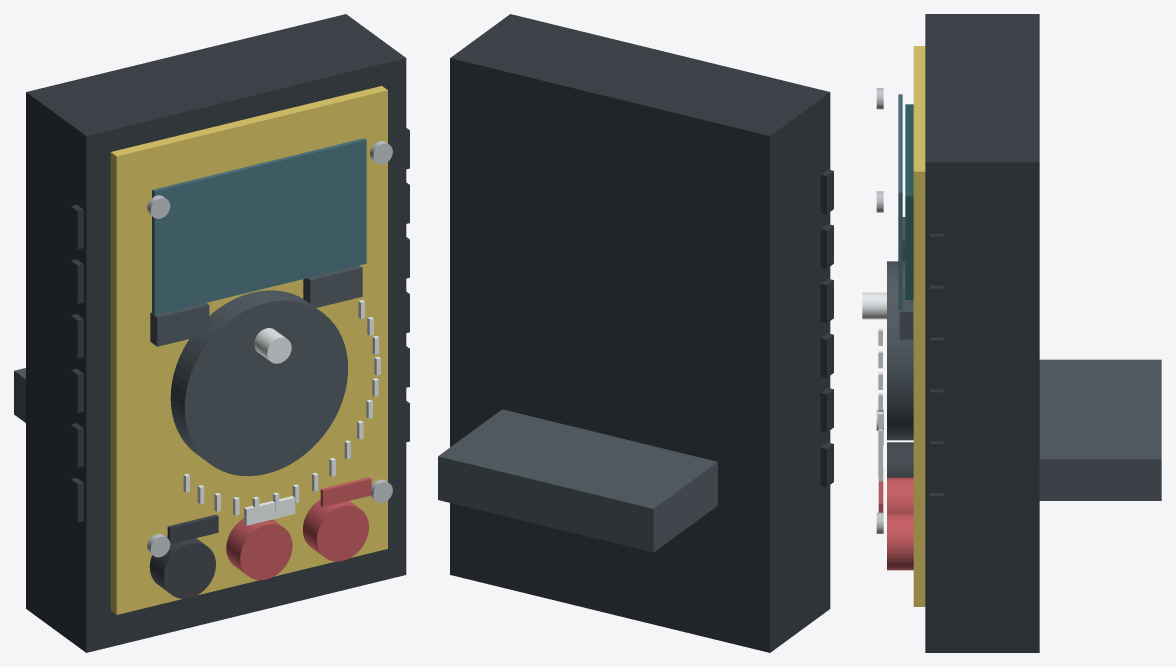
File: multimeter_lod0.glb
3 renders of one model, left to right at view 1: azimuth 30°, elevation 25°; view 2: azimuth 150°, elevation 25°; view 3: azimuth 270°, elevation 25°, orthographic. The views are drawn at different scales.
Visible parts, largest first — view 1: DMM_RUBBER_SHELL_MAT_RUBBER, DMM_BODY_MAT_YELLOW, DMM_SCREEN_GLASS_MAT_SCREEN_GLASS, DMM_DIAL_MAT_POLYMER_BLACK, DMM_PORT_1_MAT_RED, DMM_PORT_2_MAT_RED, DMM_PORT_0_MAT_BLACK, DMM_BUTTON_0_MAT_POLYMER_BLACK, DMM_BUTTON_1_MAT_POLYMER_BLACK, DMM_PORT_LABEL_2_MAT_RED, DMM_PORT_LABEL_0_MAT_BLACK, DMM_DIAL_POINTER_MAT_WHITE (+8 smaller); view 2: DMM_RUBBER_SHELL_MAT_RUBBER, DMM_STAND_MAT_POLYMER_BLACK, DMM_GRIP_-1_1_MAT_RUBBER, DMM_GRIP_-1_5_MAT_RUBBER, DMM_GRIP_-1_0_MAT_RUBBER, DMM_GRIP_-1_2_MAT_RUBBER, DMM_GRIP_-1_3_MAT_RUBBER, DMM_GRIP_-1_4_MAT_RUBBER; view 3: DMM_RUBBER_SHELL_MAT_RUBBER, DMM_STAND_MAT_POLYMER_BLACK, DMM_BODY_MAT_YELLOW, DMM_DIAL_MAT_POLYMER_BLACK, DMM_SCREEN_MAT_EMISSIVE_SCREEN, DMM_PORT_2_MAT_RED, DMM_SCREEN_GLASS_MAT_SCREEN_GLASS, DMM_PORT_1_MAT_RED, DMM_PORT_0_MAT_BLACK, DMM_DIAL_POINTER_MAT_WHITE, DMM_BUTTON_1_MAT_POLYMER_BLACK, DMM_GRIP_1_2_MAT_RUBBER (+5 smaller).
Part boxes in pixels (x1,y1,x2,y2): DMM_RUBBER_SHELL_MAT_RUBBER: [26, 14, 406, 652]; DMM_BODY_MAT_YELLOW: [110, 86, 387, 614]; DMM_SCREEN_GLASS_MAT_SCREEN_GLASS: [152, 138, 366, 315]; DMM_DIAL_MAT_POLYMER_BLACK: [170, 290, 348, 476]; DMM_PORT_1_MAT_RED: [226, 518, 292, 580]; DMM_PORT_2_MAT_RED: [303, 499, 368, 561]; DMM_PORT_0_MAT_BLACK: [149, 537, 215, 598]; DMM_BUTTON_0_MAT_POLYMER_BLACK: [150, 303, 209, 346]; DMM_BUTTON_1_MAT_POLYMER_BLACK: [303, 265, 362, 307]; DMM_PORT_LABEL_2_MAT_RED: [320, 477, 371, 506]; DMM_PORT_LABEL_0_MAT_BLACK: [167, 514, 218, 544]; DMM_DIAL_POINTER_MAT_WHITE: [254, 328, 291, 363]; DMM_RUBBER_SHELL_MAT_RUBBER: [450, 14, 830, 652]; DMM_STAND_MAT_POLYMER_BLACK: [438, 409, 717, 552]; DMM_GRIP_-1_1_MAT_RUBBER: [820, 388, 833, 432]; DMM_GRIP_-1_5_MAT_RUBBER: [820, 169, 833, 214]; DMM_GRIP_-1_0_MAT_RUBBER: [820, 442, 833, 486]; DMM_GRIP_-1_2_MAT_RUBBER: [820, 333, 833, 377]; DMM_GRIP_-1_3_MAT_RUBBER: [820, 278, 833, 323]; DMM_GRIP_-1_4_MAT_RUBBER: [820, 224, 833, 268]; DMM_RUBBER_SHELL_MAT_RUBBER: [925, 14, 1039, 652]; DMM_STAND_MAT_POLYMER_BLACK: [1039, 359, 1161, 500]; DMM_BODY_MAT_YELLOW: [913, 46, 925, 606]; DMM_DIAL_MAT_POLYMER_BLACK: [887, 261, 913, 440]; DMM_SCREEN_MAT_EMISSIVE_SCREEN: [905, 104, 913, 299]; DMM_PORT_2_MAT_RED: [887, 513, 913, 570]; DMM_SCREEN_GLASS_MAT_SCREEN_GLASS: [898, 94, 902, 309]; DMM_PORT_1_MAT_RED: [887, 477, 913, 513]; DMM_PORT_0_MAT_BLACK: [887, 442, 913, 477]; DMM_DIAL_POINTER_MAT_WHITE: [862, 292, 886, 319]; DMM_BUTTON_1_MAT_POLYMER_BLACK: [899, 287, 912, 339]; DMM_GRIP_1_2_MAT_RUBBER: [930, 389, 943, 428].
Bounding box in the file's own units: 0.955 × 1.42 × 0.785.
